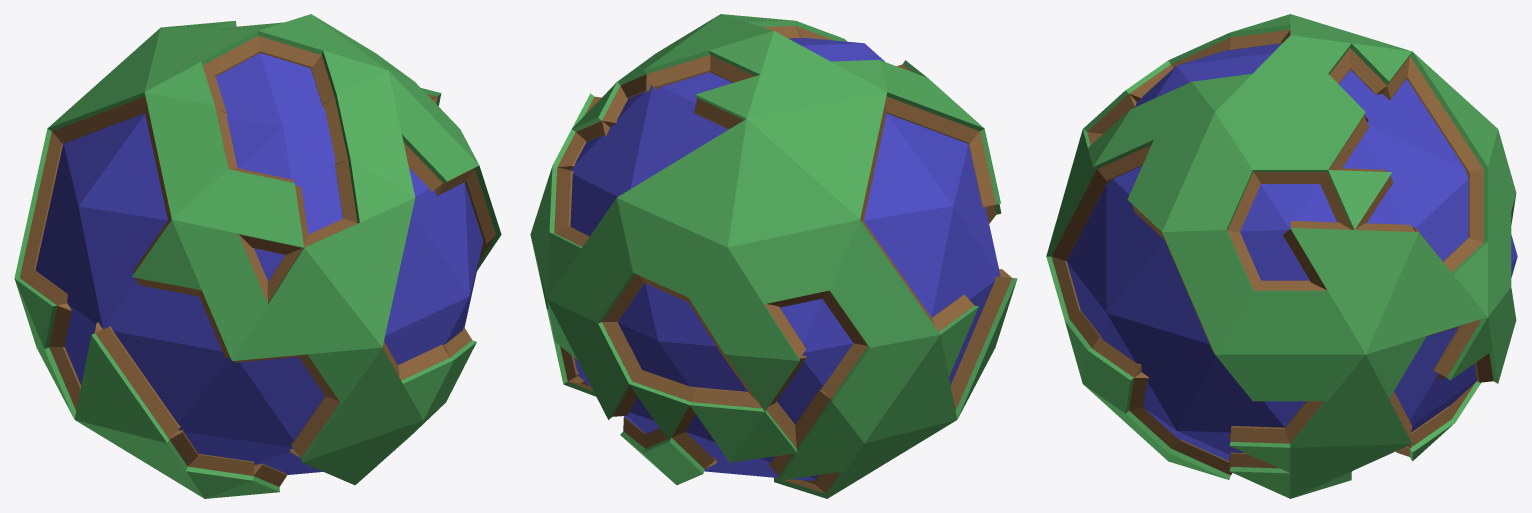
The model's file is Planet_MESH.fbx.
The picture shows the model from 3 angles, left to right: view 1: azimuth 30°, elevation 25°; view 2: azimuth 150°, elevation 25°; view 3: azimuth 270°, elevation 25°; orthographic projection.
Visible parts, largest first — view 1: GrassLand, SeaLevel, RockLand; view 2: GrassLand, SeaLevel, RockLand; view 3: GrassLand, SeaLevel, RockLand.
Boxes of the visible parts, x1=… form: GrassLand: x1=14, y1=14, x2=501, y2=498; SeaLevel: x1=35, y1=53, x2=483, y2=474; RockLand: x1=19, y1=26, x2=495, y2=486; GrassLand: x1=530, y1=14, x2=1017, y2=498; SeaLevel: x1=570, y1=38, x2=1000, y2=480; RockLand: x1=554, y1=25, x2=1011, y2=493; GrassLand: x1=1046, y1=14, x2=1516, y2=498; SeaLevel: x1=1066, y1=43, x2=1517, y2=461; RockLand: x1=1051, y1=29, x2=1493, y2=475.
Bounding box in the file's own units: 4.66 × 4.9 × 4.73.
